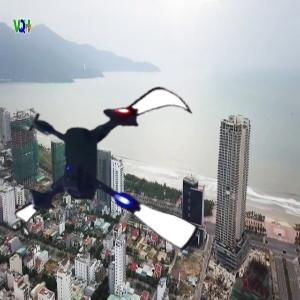drone: (9, 61, 222, 274)
